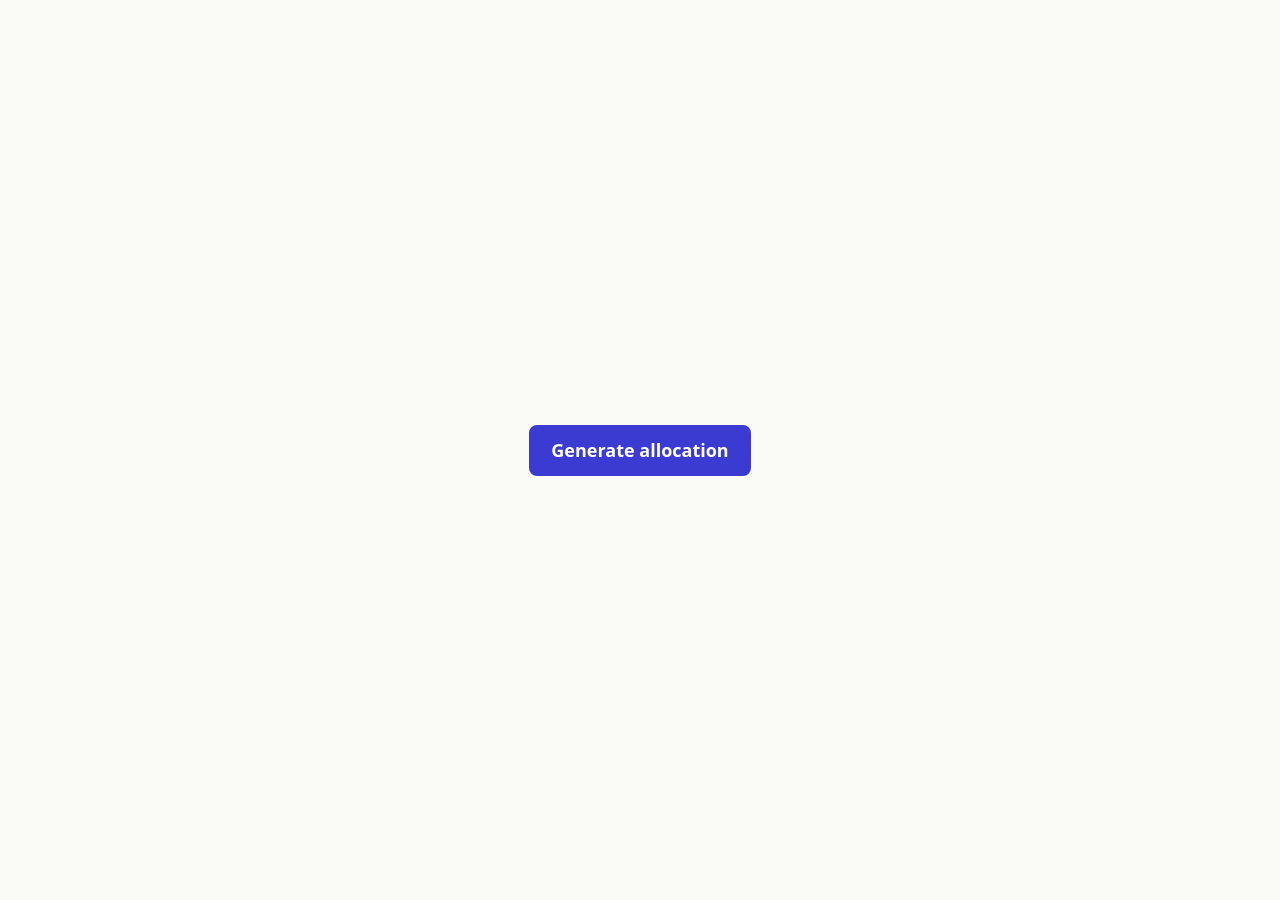
App › shows results and moves the button
This screenshot has width=1280, height=900.
What coordinates should you click on to do the following:
click the button "Generate allocation"
I would click on:
 (640, 450)
Its box is x1=529 y1=424 x2=751 y2=476.
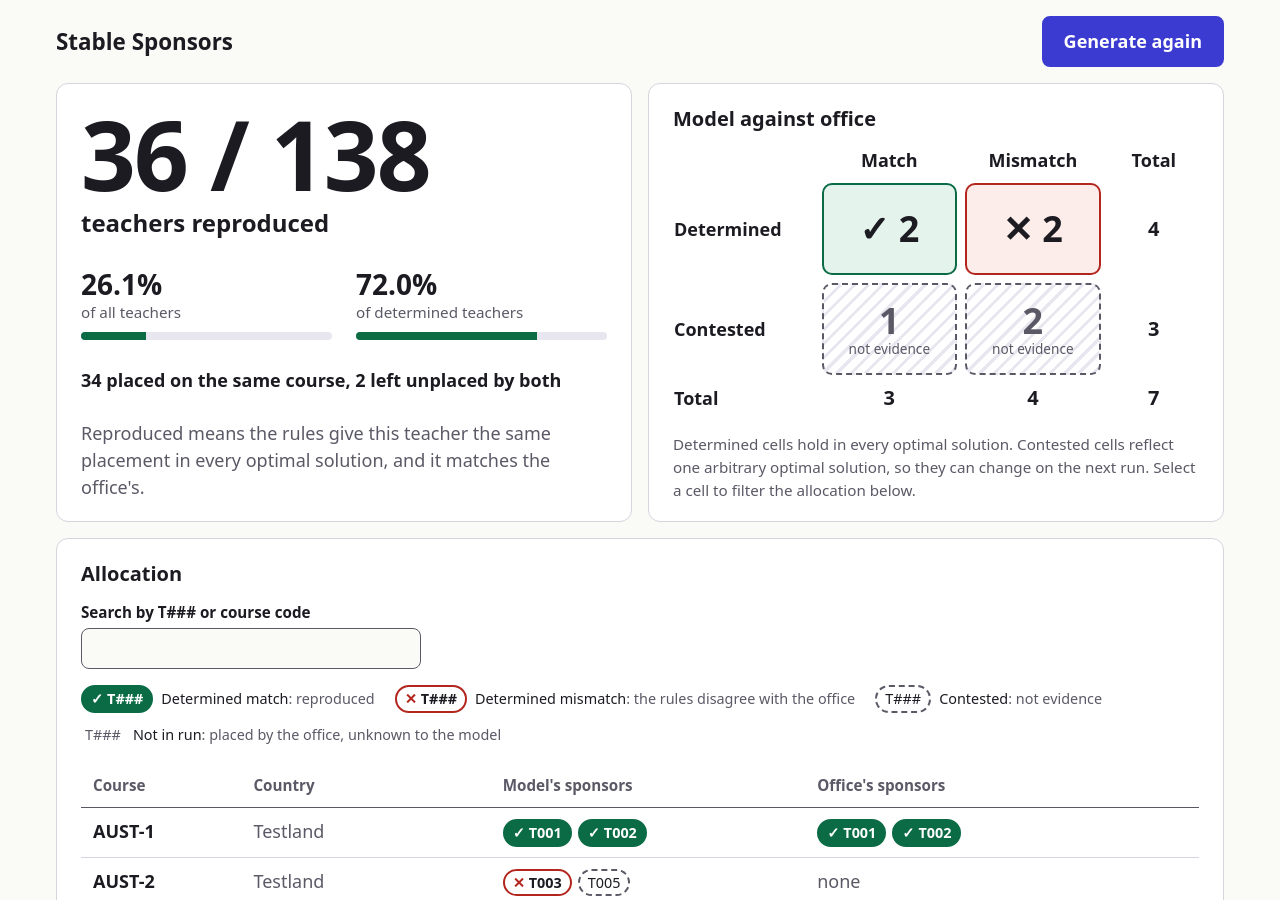
Expected: the button "Generate again" is enabled, x1=1042 y1=16 x2=1224 y2=67
Now the button "Generate allocation" is gone
